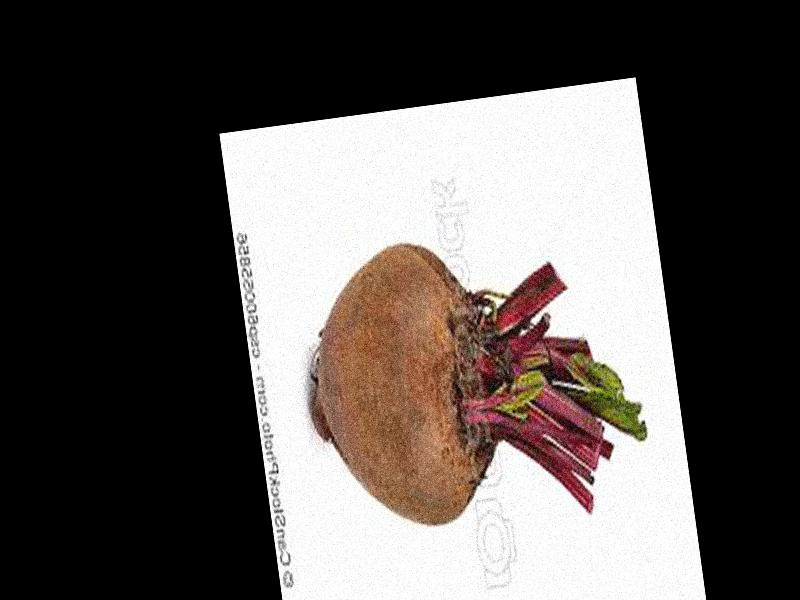Beet: (291, 212, 655, 547)
